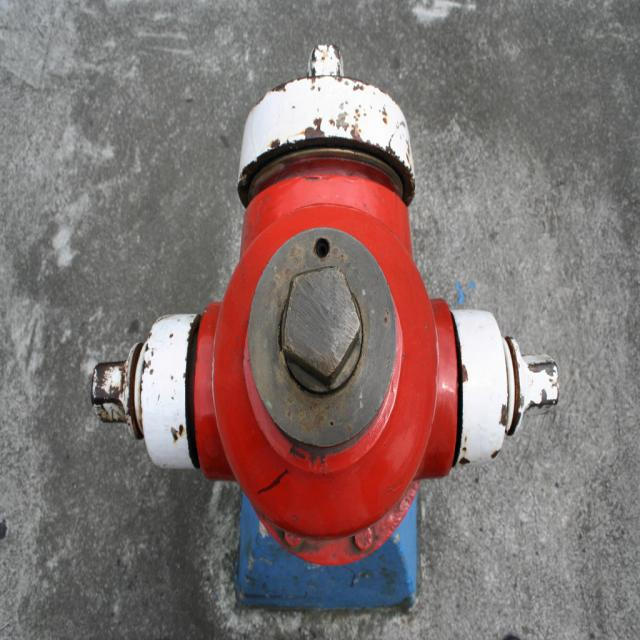fire_hydrant: (91, 46, 560, 610)
